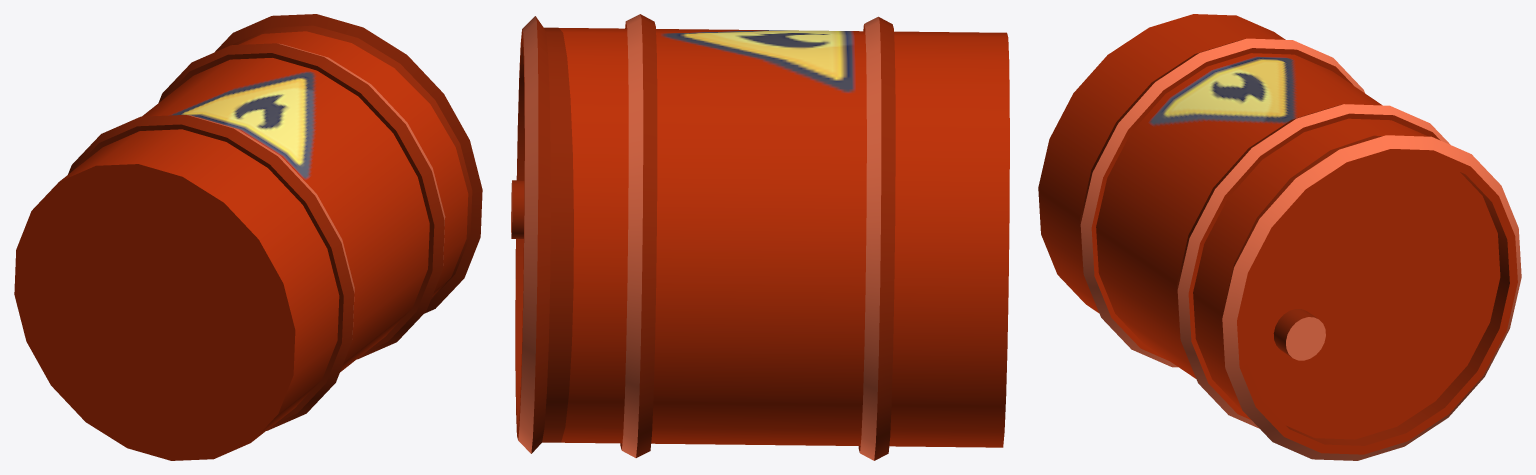
The model's file is Varil.001.fbx.
3 views of the same model, side by side, from view 1: azimuth 30°, elevation 25°; view 2: azimuth 150°, elevation 25°; view 3: azimuth 270°, elevation 25° (orthographic). The views are drawn at different scales.
Parts seen in each view (by area): view 1: Varil.001; view 2: Varil.001; view 3: Varil.001.
Part boxes in pixels (x1,y1,x2,y2): Varil.001: (14,14,482,460); Varil.001: (511,14,1009,460); Varil.001: (1038,14,1521,460).
Bounding box in the file's own units: 218 × 156 × 211.
